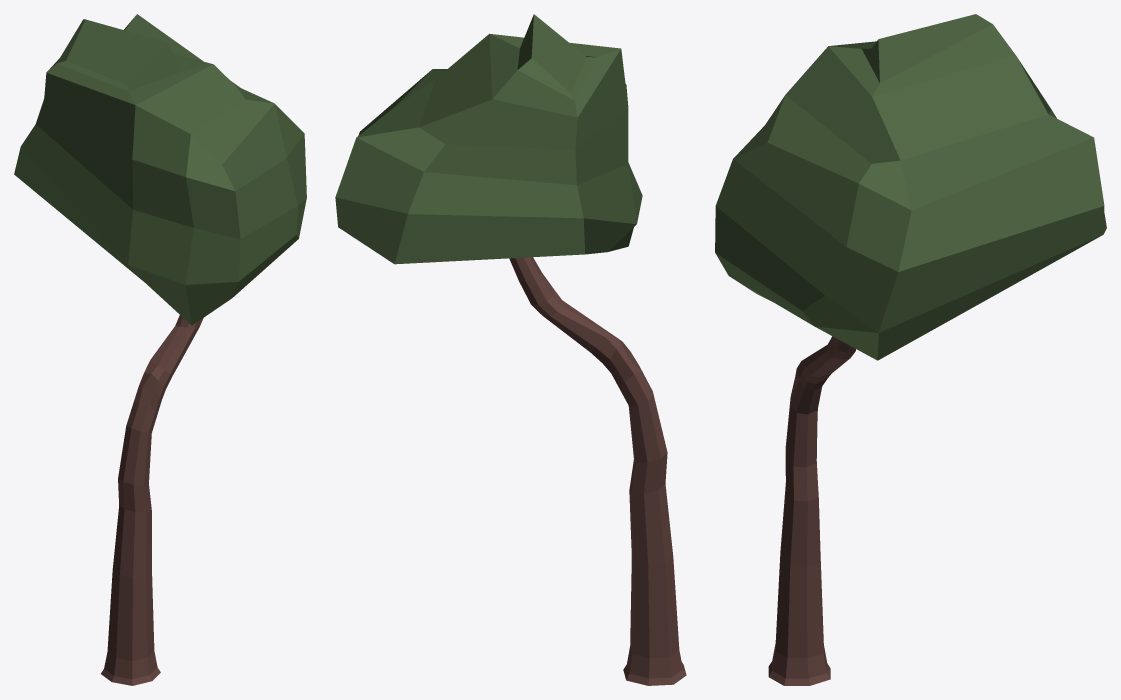
The model's file is Orange_3.glb.
The picture shows the model from 3 angles, left to right: view 1: azimuth 30°, elevation 25°; view 2: azimuth 150°, elevation 25°; view 3: azimuth 270°, elevation 25°; orthographic projection. The views are drawn at different scales.
Parts seen in each view (by area): view 1: Orange_3; view 2: Orange_3; view 3: Orange_3.
Part boxes in pixels (left/top/right/bottom): Orange_3: left=14, top=14, right=306, bottom=685; Orange_3: left=335, top=14, right=686, bottom=685; Orange_3: left=715, top=14, right=1106, bottom=685.
Bounding box in the file's own units: 0.9217 × 2.12 × 1.12.
